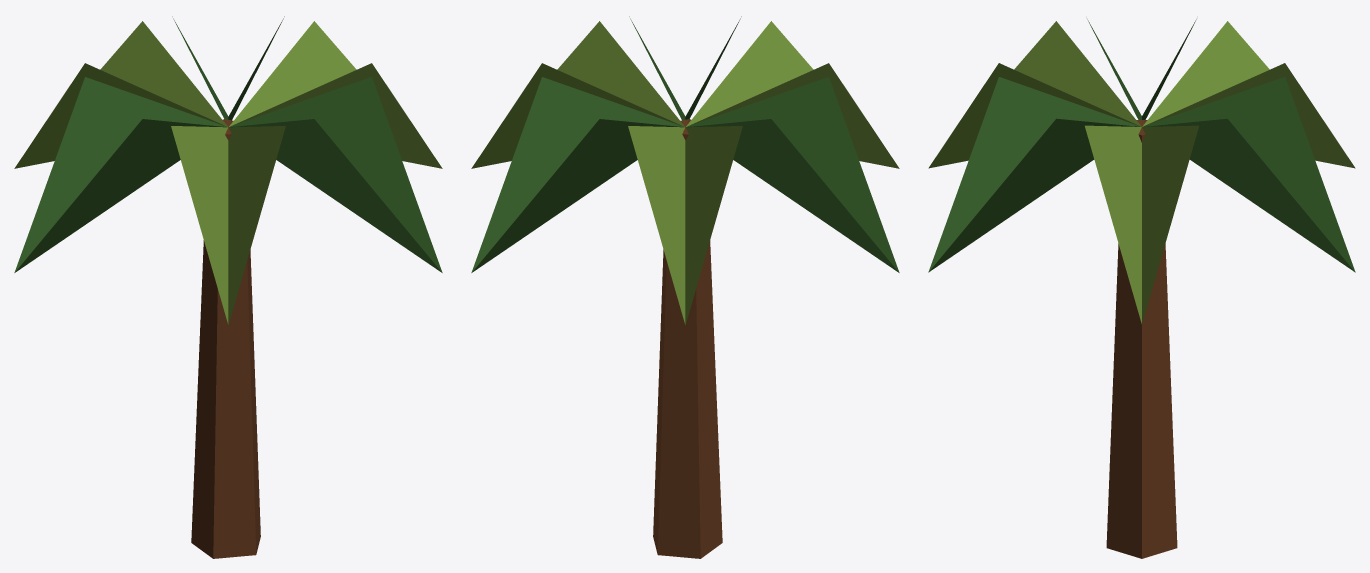
File: Palm.fbx
3 renders of one model, left to right at view 1: azimuth 30°, elevation 25°; view 2: azimuth 150°, elevation 25°; view 3: azimuth 270°, elevation 25°, orthographic.
Parts seen in each view (by area): view 1: Palm; view 2: Palm; view 3: Palm.
Boxes of the visible parts, x1,y1,x2,y2 form: Palm: (14,16,442,558); Palm: (471,16,899,558); Palm: (928,19,1355,558).
Bounding box in the file's own units: 86 × 91 × 74.48.
